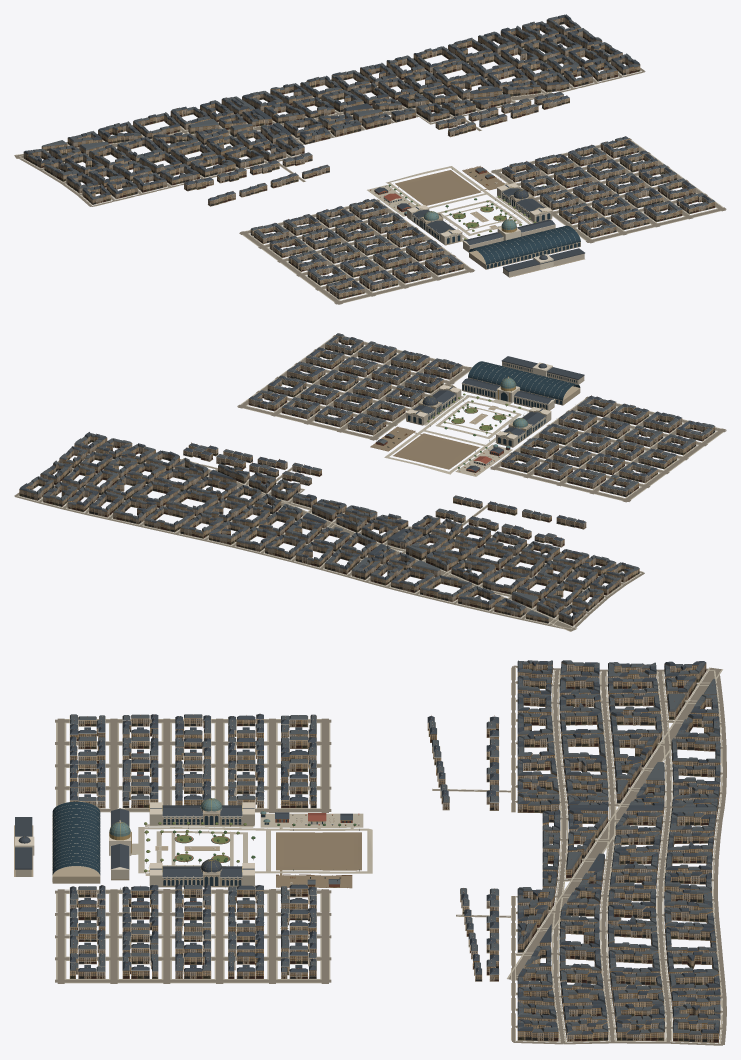
File: paris-city.glb
3 renders of one model, top to bottom at view 1: azimuth 30°, elevation 25°; view 2: azimuth 150°, elevation 25°; view 3: azimuth 270°, elevation 25°, orthographic. The views are drawn at different scales.
Visible parts, largest first — view 1: Paris Exposition architecture and streets-masonry-facade.009, Paris Exposition architecture and streets-zinc.009, Paris Exposition architecture and streets-slate.009, Paris Exposition architecture and streets-paving.009, Paris Exposition architecture and streets-road.009, Paris Exposition architecture and streets-stone-light.009, Paris Exposition architecture and streets-stone-warm.009, Paris Exposition architecture and streets-glass.009, Paris Exposition architecture and streets-work-earth.009, Paris Exposition architecture and streets-stone.009, Paris Exposition architecture and streets-brick.009; view 2: Paris Exposition architecture and streets-masonry-facade.009, Paris Exposition architecture and streets-zinc.009, Paris Exposition architecture and streets-slate.009, Paris Exposition architecture and streets-paving.009, Paris Exposition architecture and streets-road.009, Paris Exposition architecture and streets-stone-light.009, Paris Exposition architecture and streets-stone-warm.009, Paris Exposition architecture and streets-glass.009, Paris Exposition architecture and streets-work-earth.009, Paris Exposition architecture and streets-brick.009, Paris Exposition architecture and streets-stone.009; view 3: Paris Exposition architecture and streets-masonry-facade.009, Paris Exposition architecture and streets-zinc.009, Paris Exposition architecture and streets-slate.009, Paris Exposition architecture and streets-road.009, Paris Exposition architecture and streets-paving.009, Paris Exposition architecture and streets-stone-light.009, Paris Exposition architecture and streets-stone-warm.009, Paris Exposition architecture and streets-work-earth.009, Paris Exposition architecture and streets-glass.009, Paris Exposition architecture and streets-brick.009, Paris Exposition architecture and streets-stone.009.
Part boxes in pixels (x1,y1,x2,y2): Paris Exposition architecture and streets-masonry-facade.009: [23, 17, 715, 299]; Paris Exposition architecture and streets-zinc.009: [25, 16, 714, 293]; Paris Exposition architecture and streets-slate.009: [24, 14, 711, 290]; Paris Exposition architecture and streets-paving.009: [14, 37, 723, 303]; Paris Exposition architecture and streets-road.009: [14, 41, 726, 304]; Paris Exposition architecture and streets-stone-light.009: [184, 94, 714, 297]; Paris Exposition architecture and streets-stone-warm.009: [24, 24, 715, 299]; Paris Exposition architecture and streets-glass.009: [375, 168, 580, 268]; Paris Exposition architecture and streets-work-earth.009: [395, 166, 504, 205]; Paris Exposition architecture and streets-stone.009: [407, 186, 584, 276]; Paris Exposition architecture and streets-brick.009: [28, 16, 711, 290]; Paris Exposition architecture and streets-masonry-facade.009: [19, 335, 715, 625]; Paris Exposition architecture and streets-zinc.009: [27, 333, 714, 619]; Paris Exposition architecture and streets-slate.009: [19, 336, 701, 619]; Paris Exposition architecture and streets-paving.009: [18, 337, 723, 631]; Paris Exposition architecture and streets-road.009: [14, 335, 726, 631]; Paris Exposition architecture and streets-stone-light.009: [183, 335, 713, 545]; Paris Exposition architecture and streets-stone-warm.009: [20, 342, 714, 626]; Paris Exposition architecture and streets-glass.009: [377, 361, 596, 472]; Paris Exposition architecture and streets-work-earth.009: [370, 427, 479, 469]; Paris Exposition architecture and streets-brick.009: [32, 337, 706, 615]; Paris Exposition architecture and streets-stone.009: [406, 361, 584, 446]; Paris Exposition architecture and streets-masonry-facade.009: [70, 661, 720, 1042]; Paris Exposition architecture and streets-zinc.009: [70, 660, 720, 1034]; Paris Exposition architecture and streets-slate.009: [15, 661, 720, 1034]; Paris Exposition architecture and streets-road.009: [55, 665, 726, 1045]; Paris Exposition architecture and streets-paving.009: [56, 667, 722, 1043]; Paris Exposition architecture and streets-stone-light.009: [15, 713, 499, 979]; Paris Exposition architecture and streets-stone-warm.009: [14, 672, 720, 1043]; Paris Exposition architecture and streets-work-earth.009: [276, 832, 361, 888]; Paris Exposition architecture and streets-glass.009: [52, 801, 350, 885]; Paris Exposition architecture and streets-brick.009: [72, 661, 718, 1031]; Paris Exposition architecture and streets-stone.009: [15, 807, 254, 886].
Bounding box in the file's own units: 1770 × 84.75 × 1404.
25 materials, 1 textured.
